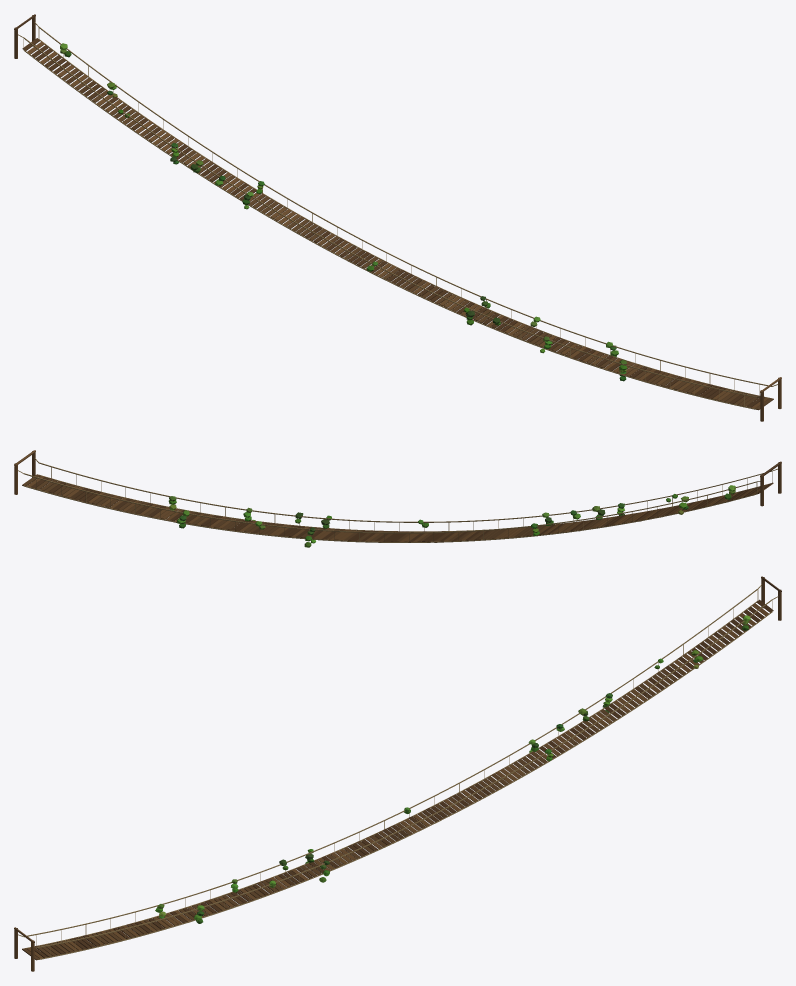
File: SM_Bridge_03_04.fbx
3 renders of one model, top to bottom at view 1: azimuth 30°, elevation 25°; view 2: azimuth 210°, elevation 25°; view 3: azimuth 270°, elevation 25°, orthographic.
Parts seen in each view (by area): view 1: SM_Bridge_03_04; view 2: SM_Bridge_03_04; view 3: SM_Bridge_03_04.
Boxes of the visible parts, left/top/right/bottom form: SM_Bridge_03_04: left=14, top=14, right=781, bottom=421; SM_Bridge_03_04: left=14, top=450, right=781, bottom=547; SM_Bridge_03_04: left=14, top=576, right=781, bottom=971.
Bounding box in the file's own units: 37.38 × 18.49 × 63.15.
